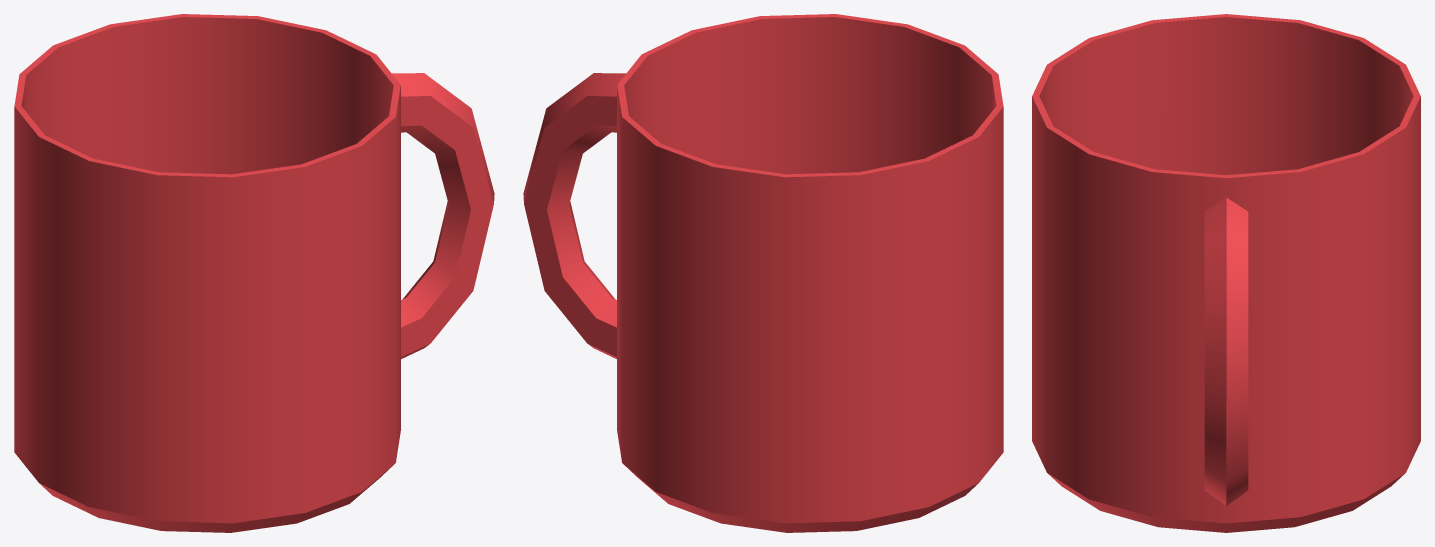
File: Taza02.fbx
The picture shows the model from 3 angles, left to right: view 1: azimuth 30°, elevation 25°; view 2: azimuth 150°, elevation 25°; view 3: azimuth 270°, elevation 25°; orthographic projection.
Visible parts, largest first — view 1: Taza02; view 2: Taza02; view 3: Taza02.
Part boxes in pixels (x1,y1,x2,y2): Taza02: (14,14,494,532); Taza02: (523,14,1003,532); Taza02: (1032,14,1420,532).
Size of the model in its own units: 0.1046 by 0.0795 by 0.0775.
